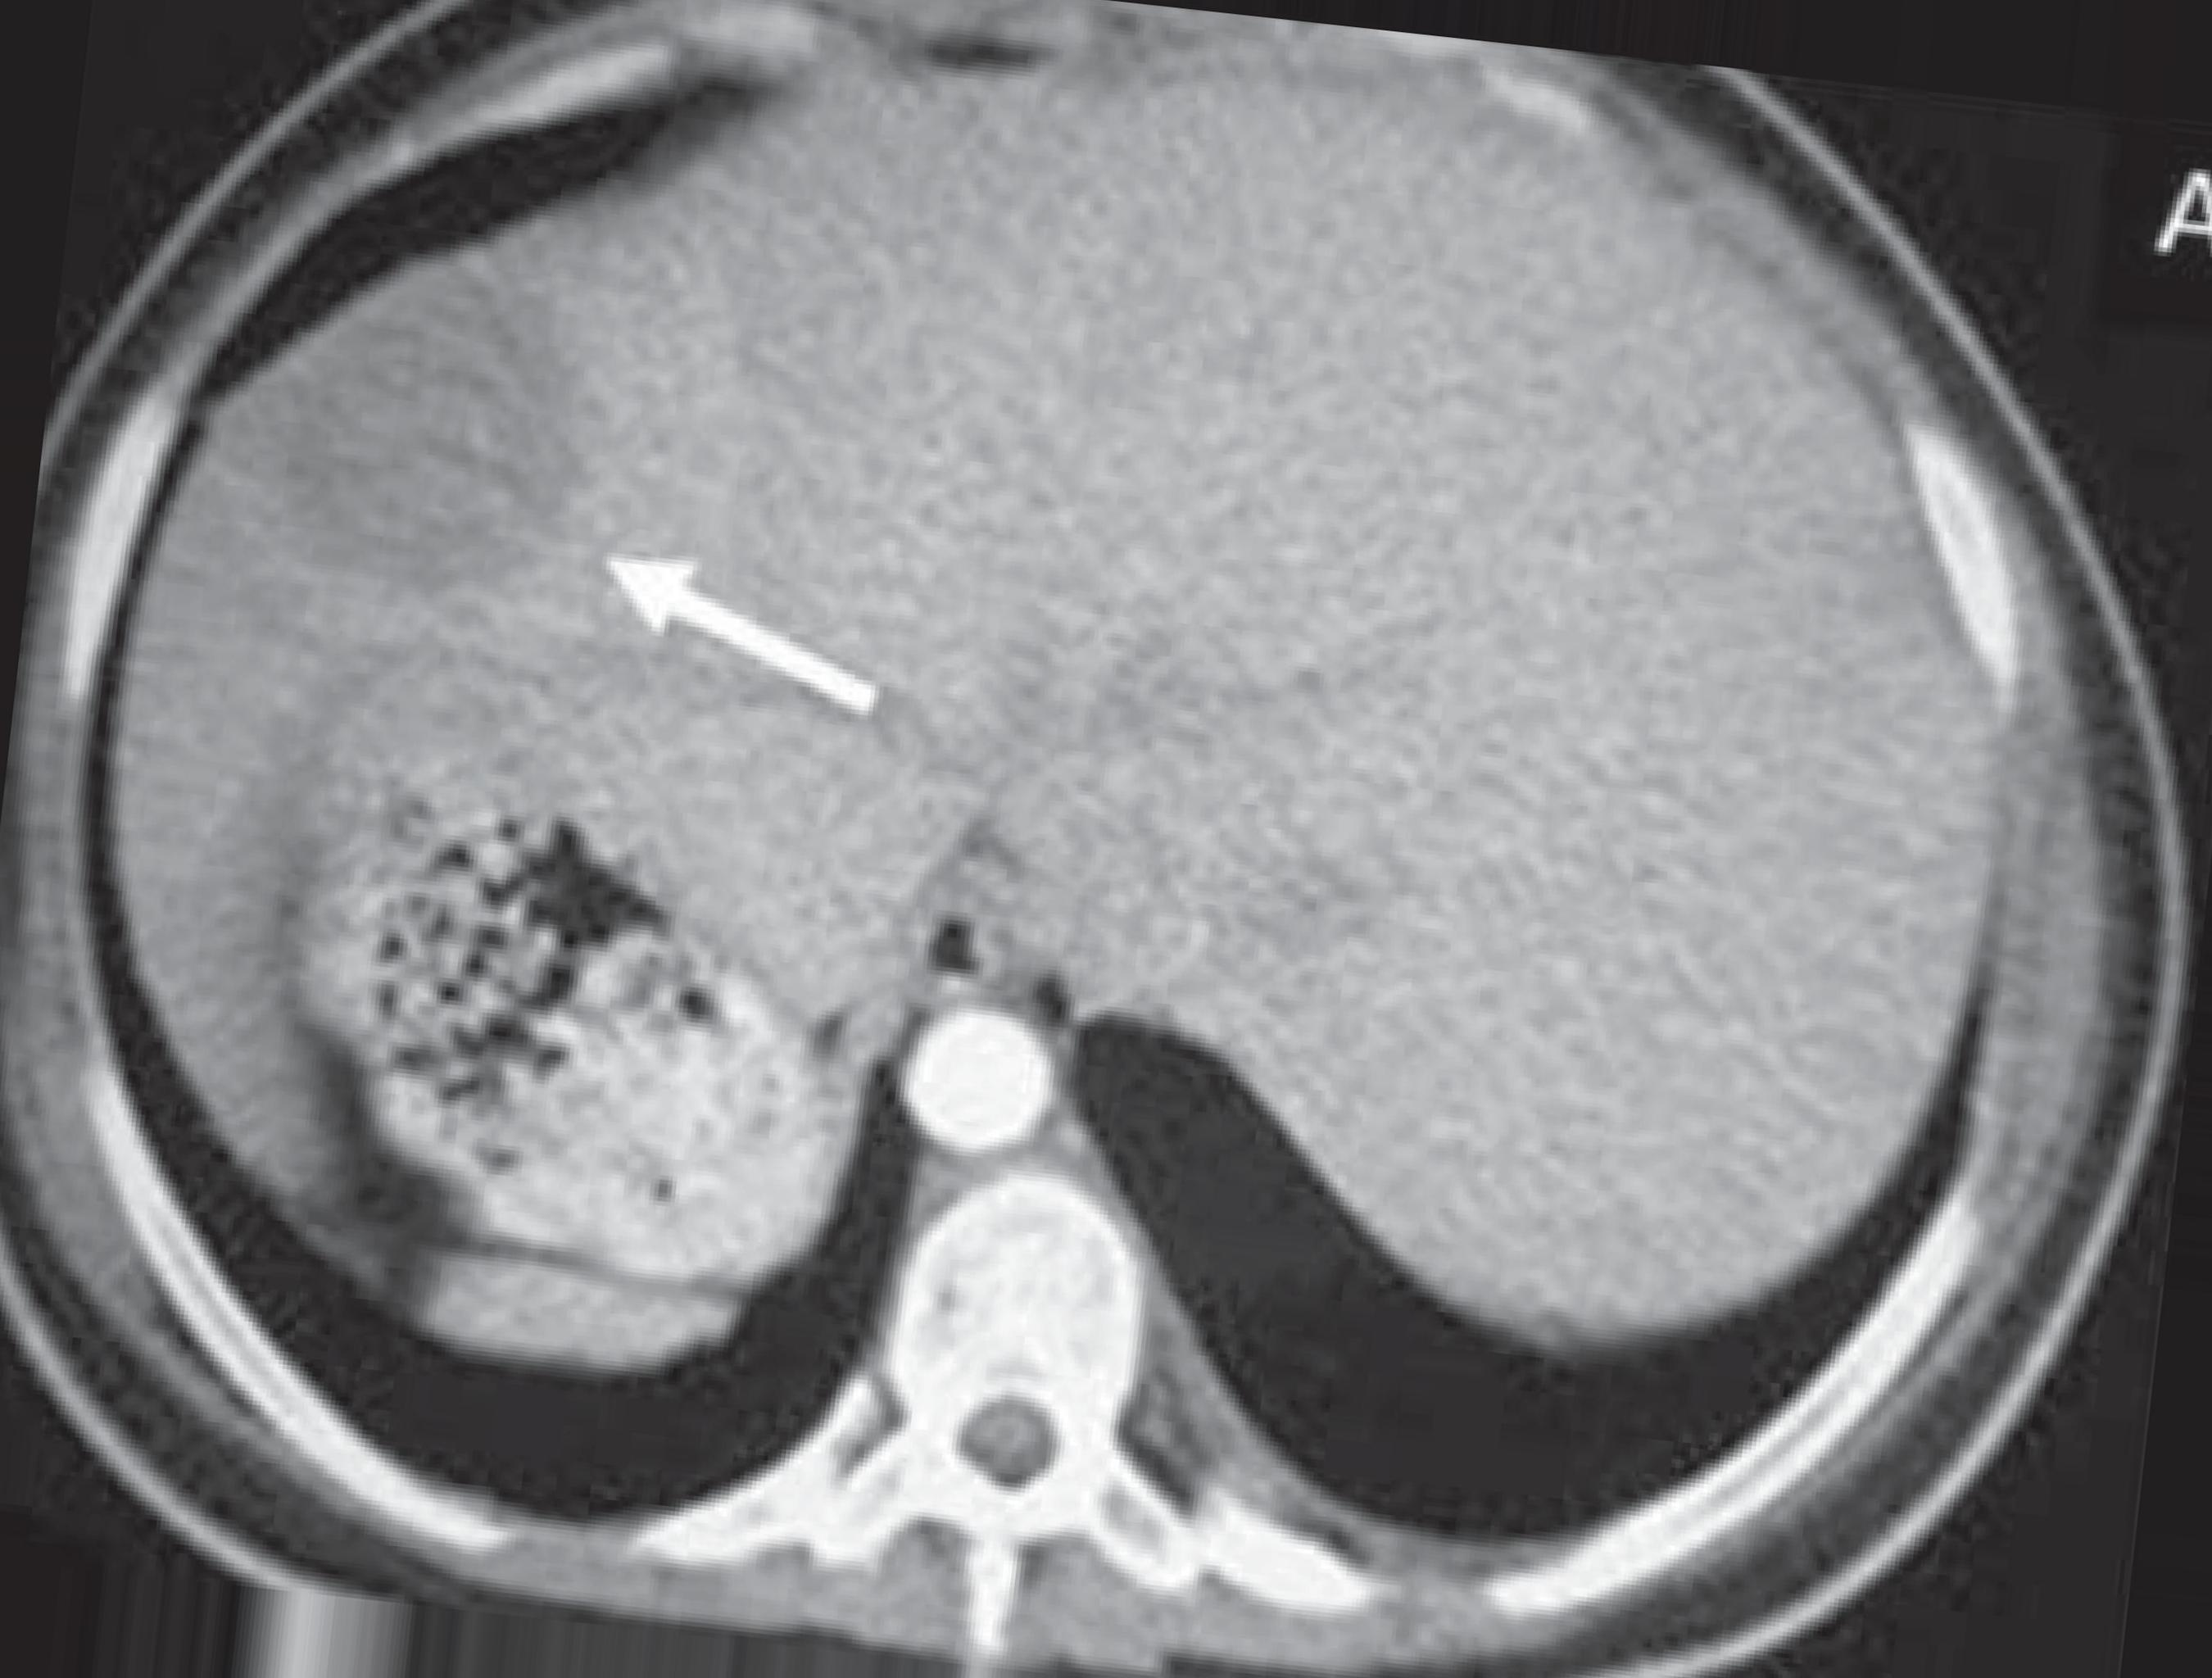anomaly: (270, 275, 605, 592)
